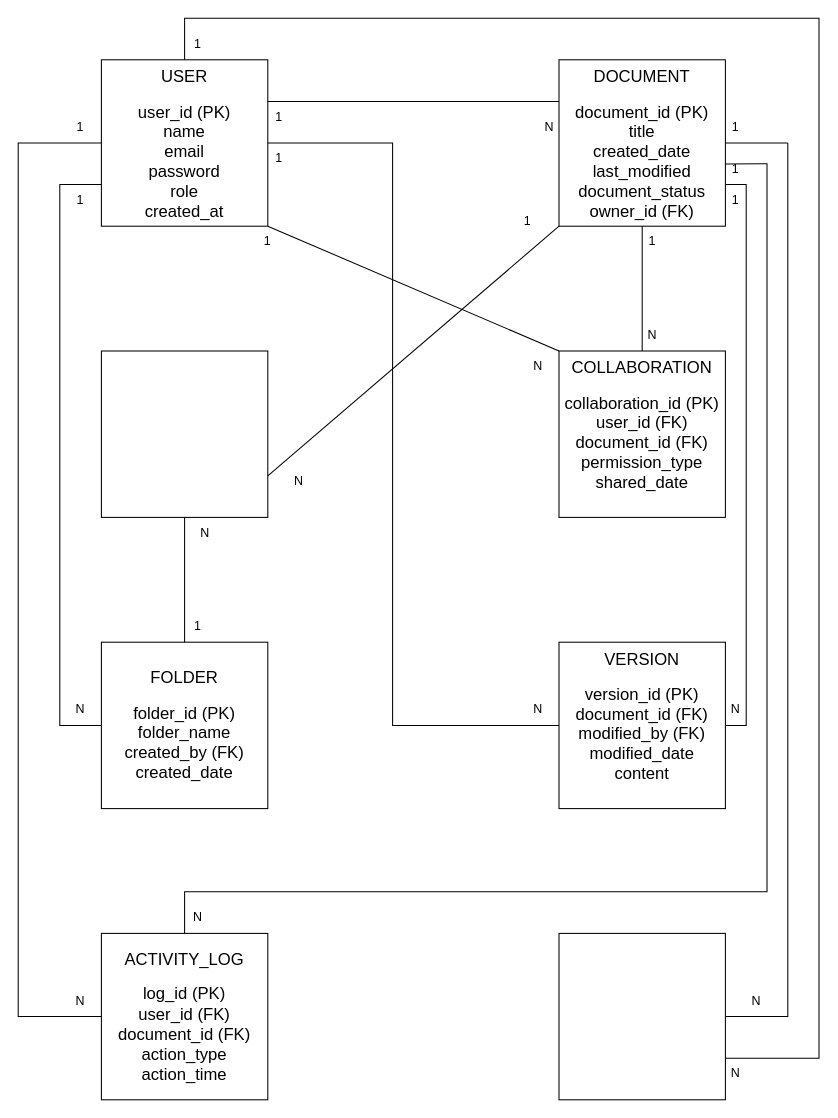
Image size: 838x1118. Some labels were removed from this diagram. The shapes that lost their labels are listed below. From the top down, each one's centre as x and y in pixels, then its label:
At pixel 184 433: "DOCUMENT_FOLDER id (PK) document_id (FK) folder_id (FK)".
At pixel 641 1016: "COMMENT comment_id (PK) user_id (FK) document_id (FK) comment_text timestamp".
